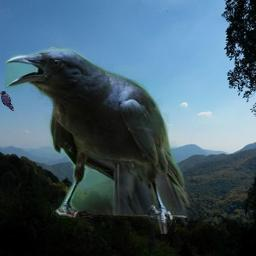Crow: (5, 47, 190, 234), (0, 91, 14, 111)
